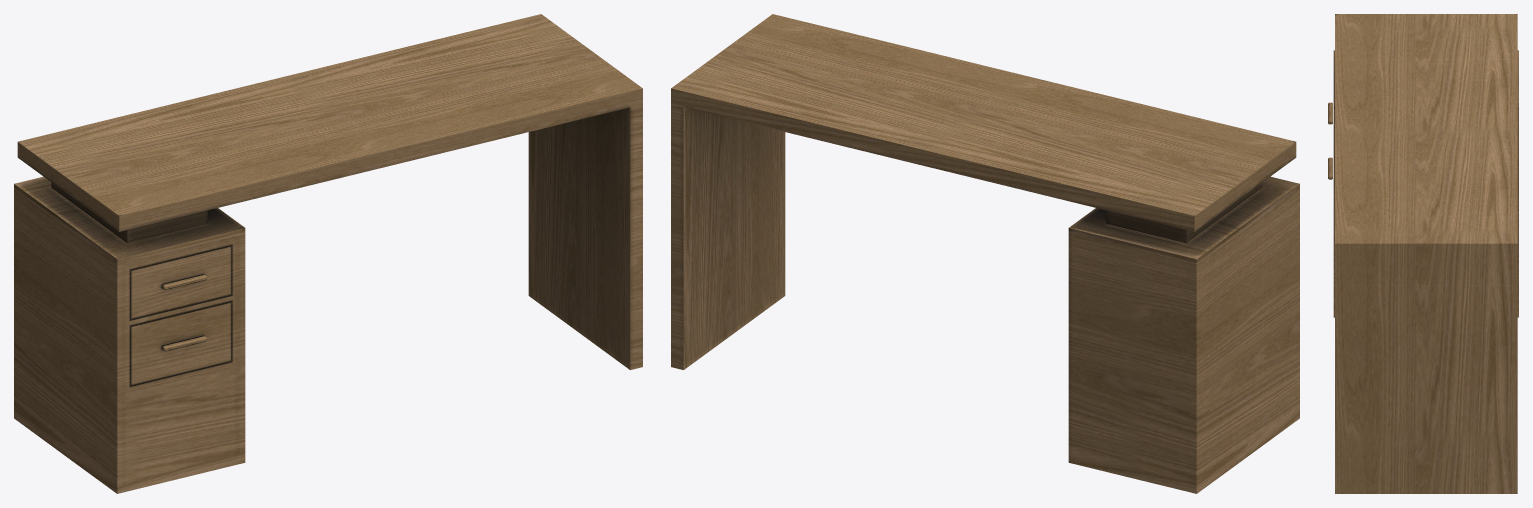
Rendered from MilesDeskWithFile.obj.
The picture shows the model from 3 angles, left to right: view 1: azimuth 30°, elevation 25°; view 2: azimuth 150°, elevation 25°; view 3: azimuth 270°, elevation 25°; orthographic projection. The views are drawn at different scales.
Parts seen in each view (by area): view 1: MilesDeskWithFile; view 2: MilesDeskWithFile; view 3: MilesDeskWithFile, MilesDeskWithFileH.
Boxes of the visible parts, left/top/right/bottom form: MilesDeskWithFile: left=14, top=14, right=642, bottom=493; MilesDeskWithFile: left=671, top=14, right=1299, bottom=493; MilesDeskWithFile: left=1333, top=14, right=1518, bottom=493; MilesDeskWithFileH: left=1328, top=102, right=1332, bottom=179.
Bounding box in the file's own units: 75.98 × 38.45 × 26.54.
